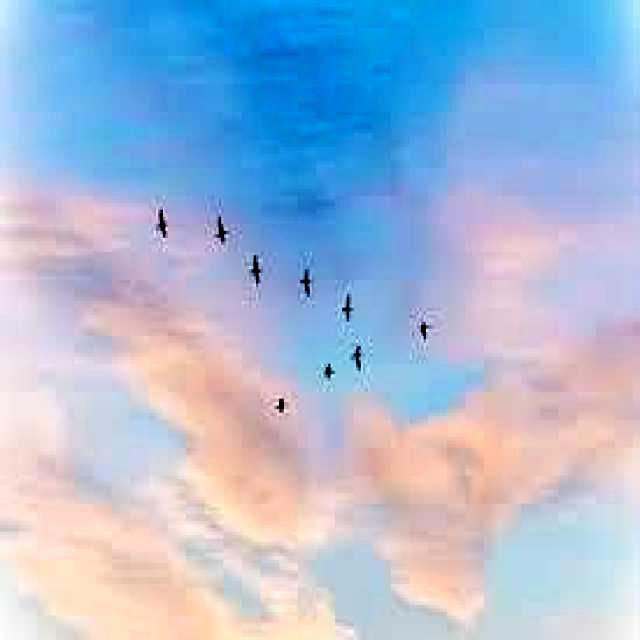bird: (208, 204, 234, 246), (411, 314, 439, 348), (319, 354, 343, 388), (248, 247, 266, 290), (269, 390, 293, 420), (348, 342, 368, 377), (152, 204, 170, 242), (340, 286, 357, 326), (298, 266, 316, 302)
